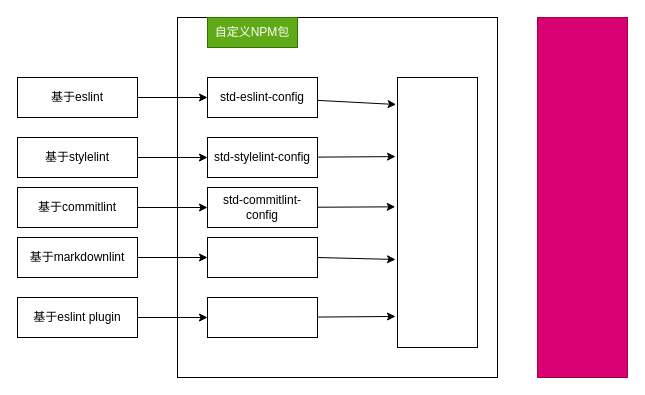
The diagram is 645 pixels wide and 395 high, and some of its shapes have lost their labels. Each missing label, with the centre of its shape:
"std-eslint-plugin" goes at [262,317].
"std-lint-cli" goes at [437,212].
"std-markdownlint-config" goes at [262,257].
"静态文档站点" goes at [582,197].
